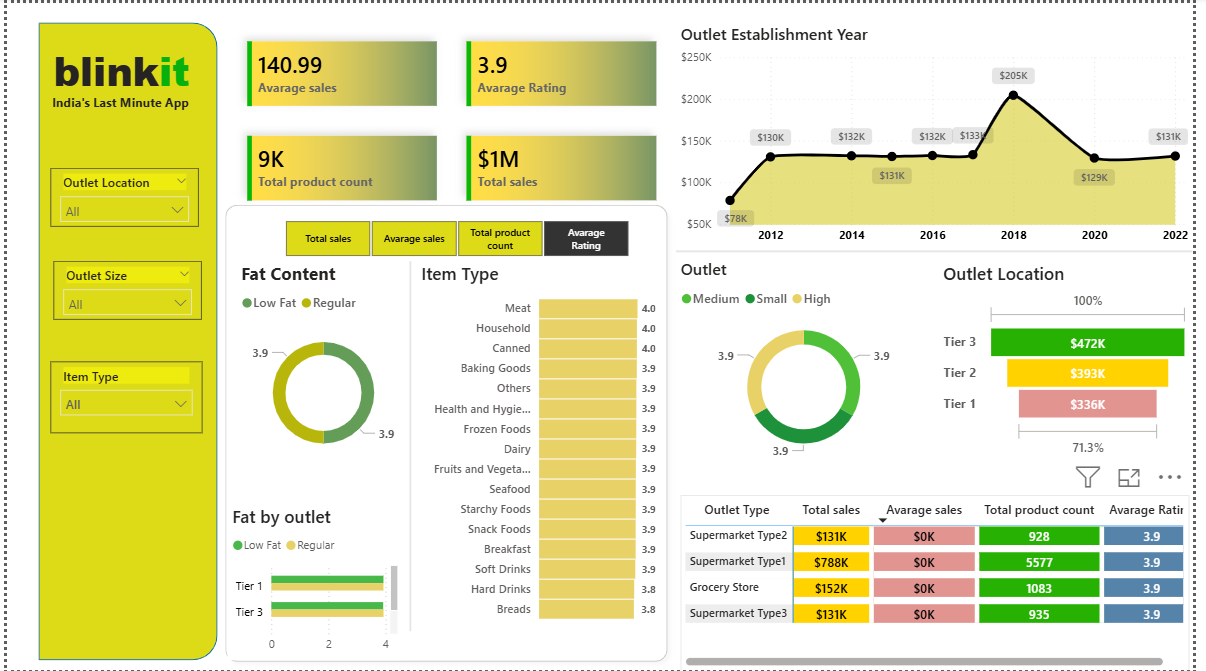

The dashboard page shown, as its layout file describes it:
{"tool":"powerbi","page":{"name":"Page 1","canvas":[1280,720],"ordinal":0},"visuals":[{"type":"shape","box":[34.2,20.8,193.2,688.5],"z":0},{"type":"textbox","box":[40.4,36.7,166.3,72.1],"z":1000},{"type":"textbox","box":[39.1,92.9,167.5,31.8],"z":2000},{"type":"cardVisual","fields":{"Data":["BlinkIT Grocery Data.Avarage sales","BlinkIT Grocery Data.Avarage Rating","BlinkIT Grocery Data.Total product count","BlinkIT Grocery Data.Total sales"]},"box":[238.5,0,484.2,254.3],"z":3000},{"type":"shape","box":[227.4,209.1,495.2,511.1],"z":4000},{"type":"donutChart","title":"Fat Content","fields":{"Y":["BlinkIT Grocery Data.Avarage Rating"],"Category":["BlinkIT Grocery Data.Item Fat Content"]},"box":[248.2,278.8,187.1,229.9],"z":5000},{"type":"slicer","fields":{"Values":["Metrics.Metrics"]},"box":[275.1,228.7,419.4,50.1],"z":6000},{"type":"clusteredBarChart","title":"Fat by outlet","fields":{"Y":["BlinkIT Grocery Data.Avarage Rating"],"Category":["BlinkIT Grocery Data.Outlet Location Type"],"Series":["BlinkIT Grocery Data.Item Fat Content"]},"box":[238.5,540.5,188.3,168.8],"z":7000},{"type":"shape","box":[426.8,278.8,15.9,399.9],"z":8000},{"type":"clusteredBarChart","title":"Item Type","fields":{"Y":["BlinkIT Grocery Data.Avarage Rating"],"Category":["BlinkIT Grocery Data.Item Type"]},"box":[442.7,278.8,262.9,399.9],"z":9000},{"type":"lineChart","title":"Outlet Establishment Year","fields":{"Category":["BlinkIT Grocery Data.Outlet Establishment Year"],"Y":["BlinkIT Grocery Data.Total sales"]},"box":[722.7,20.8,557.6,247],"z":10000},{"type":"shape","box":[722.7,255.6,557.6,24.5],"z":11000},{"type":"donutChart","title":"Outlet","fields":{"Y":["BlinkIT Grocery Data.Avarage Rating"],"Category":["BlinkIT Grocery Data.Outlet Size"]},"box":[722.7,275.1,275.1,225],"z":12000},{"type":"funnel","title":"Outlet Location ","fields":{"Category":["BlinkIT Grocery Data.Outlet Location Type"],"Y":["BlinkIT Grocery Data.Total sales"]},"box":[1005.2,278.8,275.1,216.4],"z":13000},{"type":"pivotTable","fields":{"Rows":["BlinkIT Grocery Data.Outlet Type"],"Values":["BlinkIT Grocery Data.Total sales","BlinkIT Grocery Data.Avarage sales","BlinkIT Grocery Data.Total product count","BlinkIT Grocery Data.Avarage Rating"]},"box":[727.6,530.7,547.8,189.5],"z":14000},{"type":"slicer","fields":{"Values":["BlinkIT Grocery Data.Outlet Location Type"]},"box":[46.5,177.3,160.2,63.6],"z":15000},{"type":"slicer","fields":{"Values":["BlinkIT Grocery Data.Outlet Size"]},"box":[50.1,278.8,160.2,63.6],"z":16000},{"type":"slicer","fields":{"Values":["BlinkIT Grocery Data.Item Type"]},"box":[46.5,387.6,163.9,77],"z":17000}]}

Visuals, with their boxes in screenshot pixels (x1, y1, x2, y2), scaled from the page's 1280x720 canvas onto the 1206x671 screenshot:
shape: <bbox>32, 19, 214, 661</bbox>
textbox: <bbox>38, 34, 195, 101</bbox>
textbox: <bbox>37, 87, 195, 116</bbox>
cardVisual - BlinkIT Grocery Data.Avarage sales x BlinkIT Grocery Data.Avarage Rating: <bbox>225, 0, 681, 237</bbox>
shape: <bbox>214, 195, 681, 670</bbox>
"Fat Content" donutChart: <bbox>234, 260, 410, 474</bbox>
slicer - Metrics.Metrics: <bbox>259, 213, 654, 260</bbox>
"Fat by outlet" clusteredBarChart: <bbox>225, 504, 402, 661</bbox>
shape: <bbox>402, 260, 417, 633</bbox>
"Item Type" clusteredBarChart: <bbox>417, 260, 665, 633</bbox>
"Outlet Establishment Year" lineChart: <bbox>681, 19, 1205, 250</bbox>
shape: <bbox>681, 238, 1205, 261</bbox>
"Outlet" donutChart: <bbox>681, 256, 940, 466</bbox>
"Outlet Location " funnel: <bbox>947, 260, 1205, 461</bbox>
pivotTable - BlinkIT Grocery Data.Outlet Type x BlinkIT Grocery Data.Total sales: <bbox>686, 495, 1202, 670</bbox>
slicer - BlinkIT Grocery Data.Outlet Location Type: <bbox>44, 165, 195, 225</bbox>
slicer - BlinkIT Grocery Data.Outlet Size: <bbox>47, 260, 198, 319</bbox>
slicer - BlinkIT Grocery Data.Item Type: <bbox>44, 361, 198, 433</bbox>
